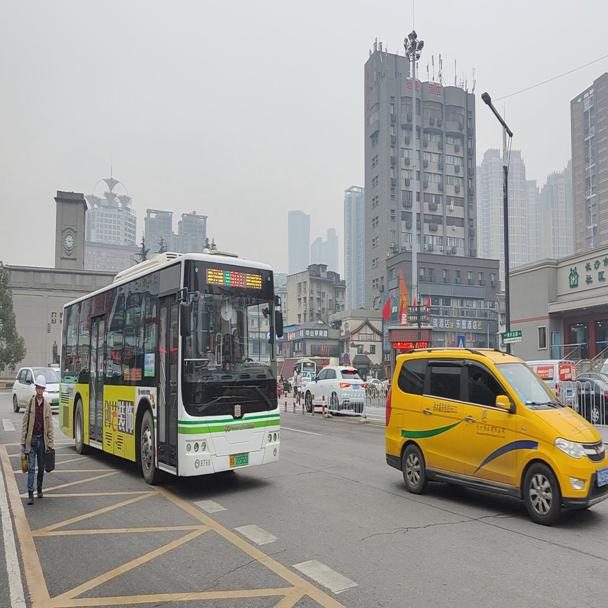bus: (58, 246, 285, 486)
screen: (228, 269, 242, 286)
